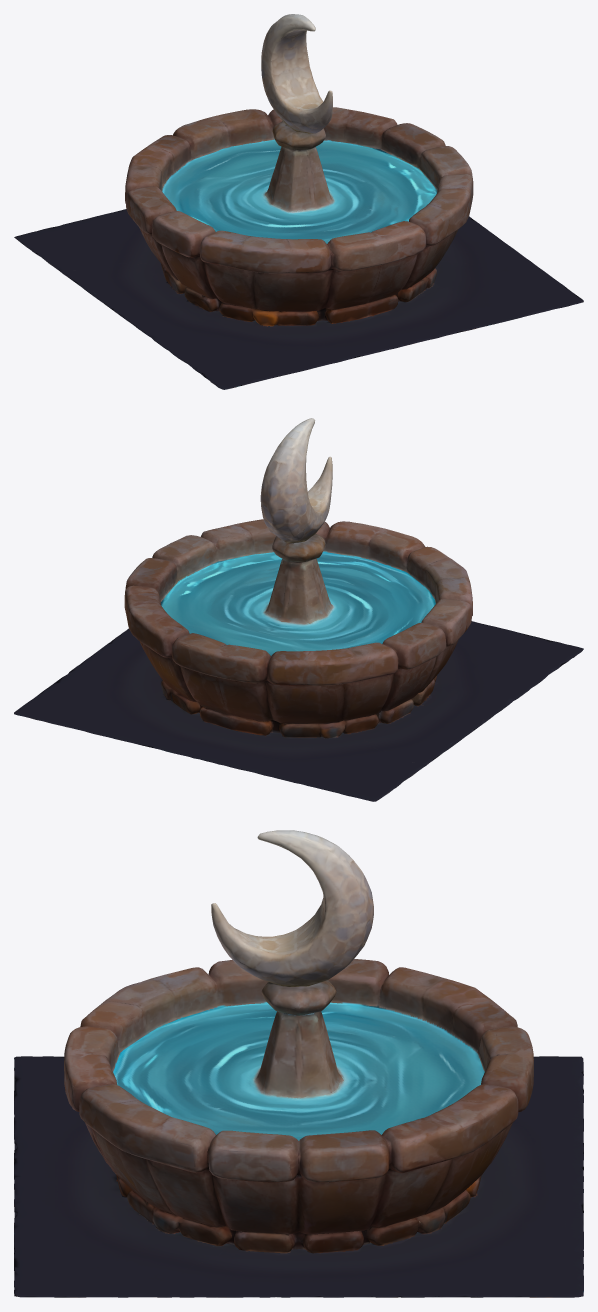
File: delve_moonwell.glb
3 views of the same model, one above another, from view 1: azimuth 30°, elevation 25°; view 2: azimuth 150°, elevation 25°; view 3: azimuth 270°, elevation 25° (orthographic). The views are drawn at different scales.
Visible parts, largest first — view 1: geometry_0; view 2: geometry_0; view 3: geometry_0.
Boxes of the visible parts, x1=… form: geometry_0: x1=14, y1=14, x2=583, y2=389; geometry_0: x1=14, y1=418, x2=583, y2=801; geometry_0: x1=14, y1=830, x2=583, y2=1297.
Size of the model in its own units: 1 by 0.6711 by 1.
Materials: 1 (1 with a texture image).
